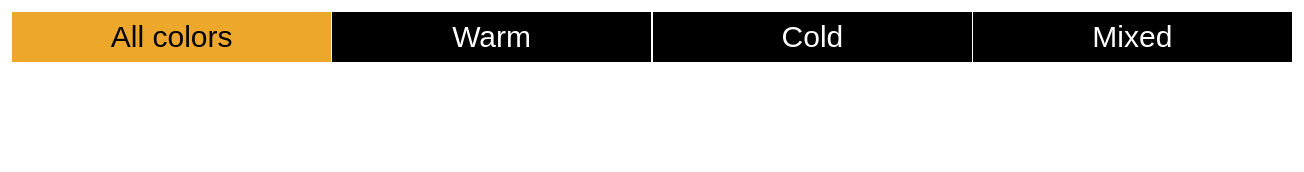
Test case: Given a PictureFilter component › When it is rendered › Then it should show a filter menu with three buttons
Click the button "Cold": coordinates (812, 37) [652,12,973,62]
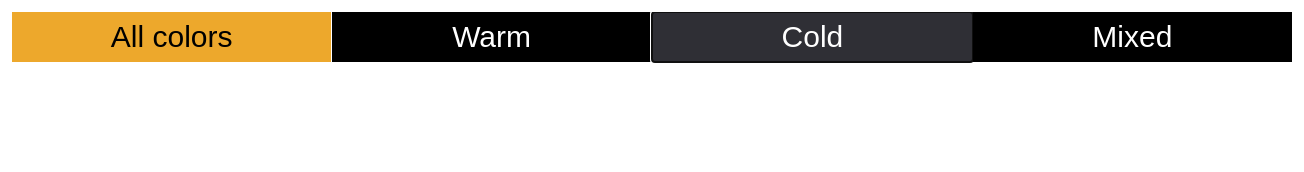
Click the button "Warm": coordinates (492, 37) [331,12,652,62]
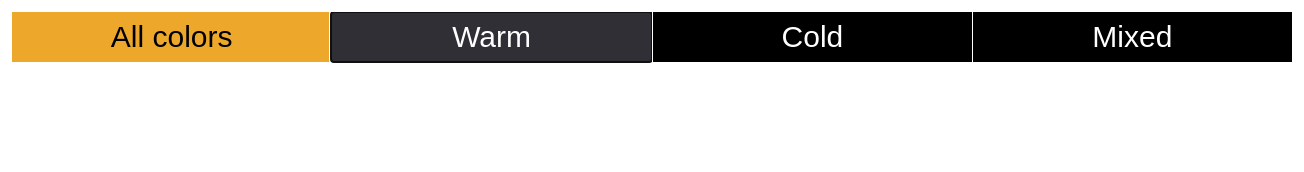
Click the button "Mixed": coordinates (1132, 37) [973,12,1292,62]
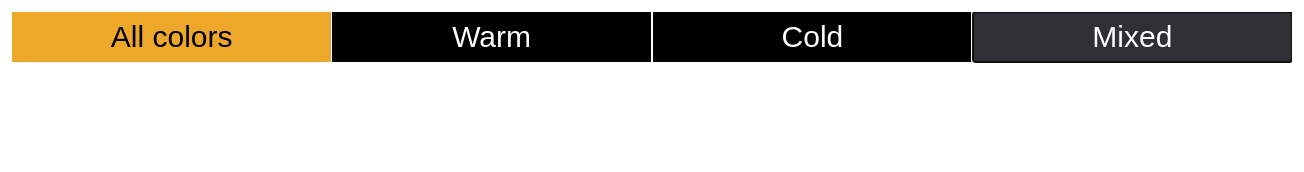
Click the button "All colors": coordinates (172, 37) [12,12,331,62]
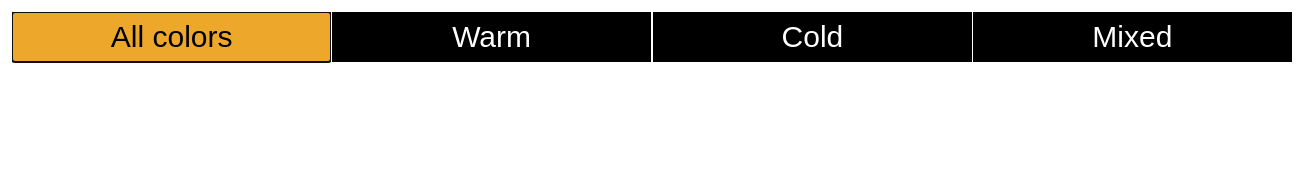
Check: the button "Cold" is shown, box [652,12,973,62]
Check: the button "All colors" is shown, box [12,12,331,62]
